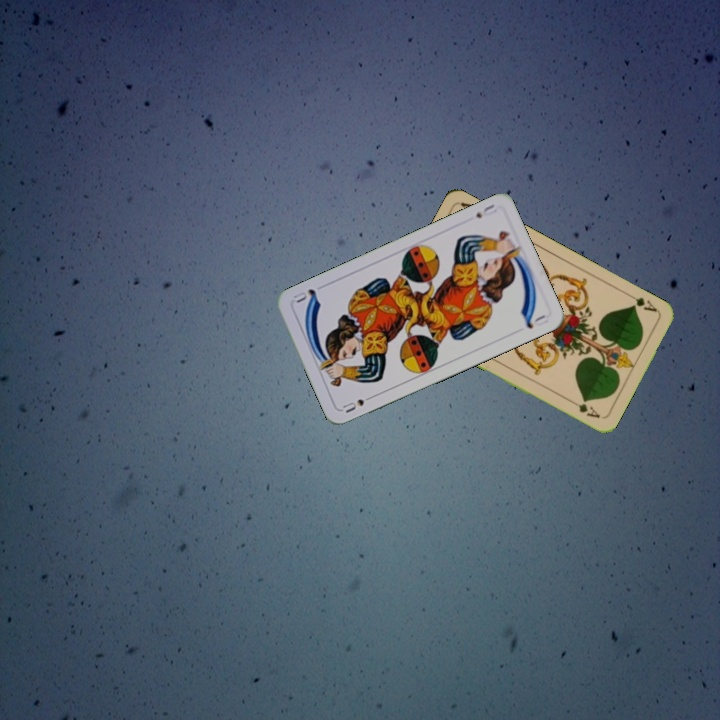GA: (623, 290, 661, 315)
SU: (339, 391, 377, 416), (471, 200, 500, 221)
